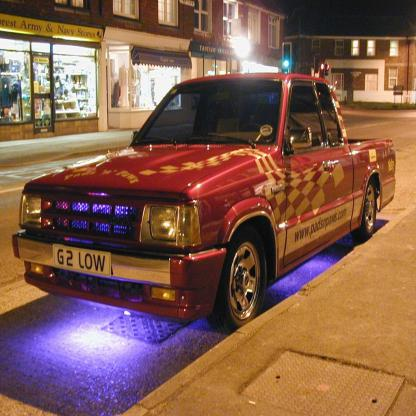Car: (16, 64, 408, 336)
Truck: (7, 68, 370, 339)
